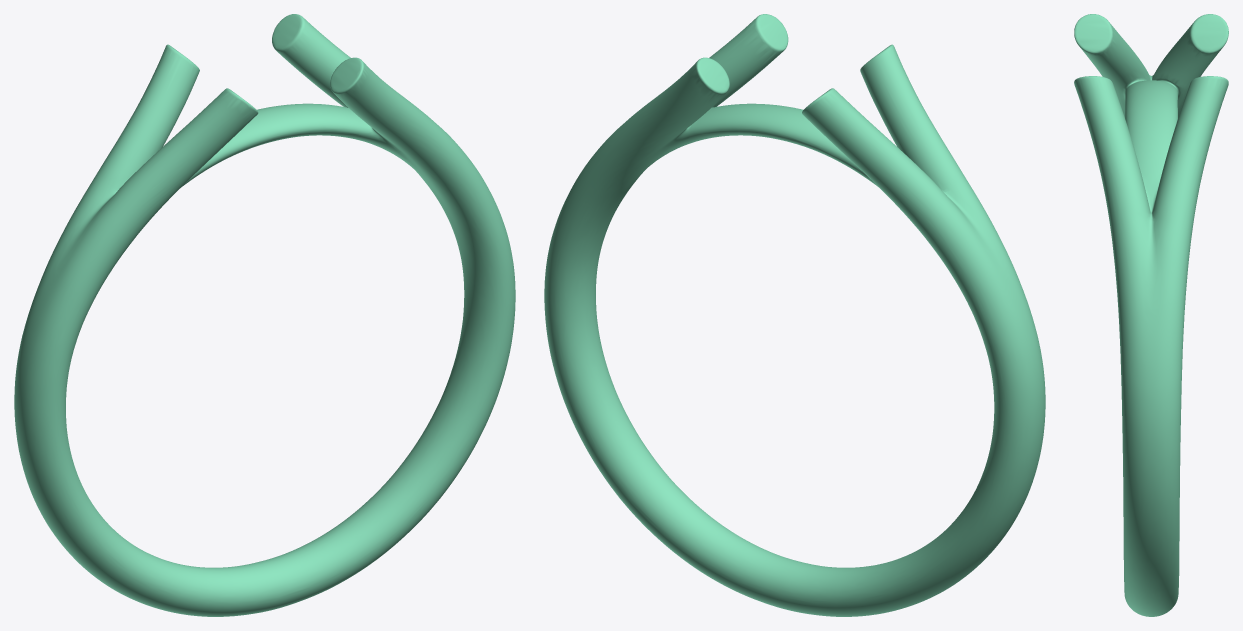
3 views of the same model, side by side, from view 1: azimuth 30°, elevation 25°; view 2: azimuth 150°, elevation 25°; view 3: azimuth 270°, elevation 25° (orthographic).
Parts seen in each view (by area): view 1: Metal02; view 2: Metal02; view 3: Metal02.
Part boxes in pixels (box(x1,y1,x2,y2)): Metal02: box(14, 14, 515, 616); Metal02: box(544, 14, 1045, 616); Metal02: box(1074, 14, 1228, 616).
Bounding box in the file's own units: 20.89 × 22.54 × 5.79.
